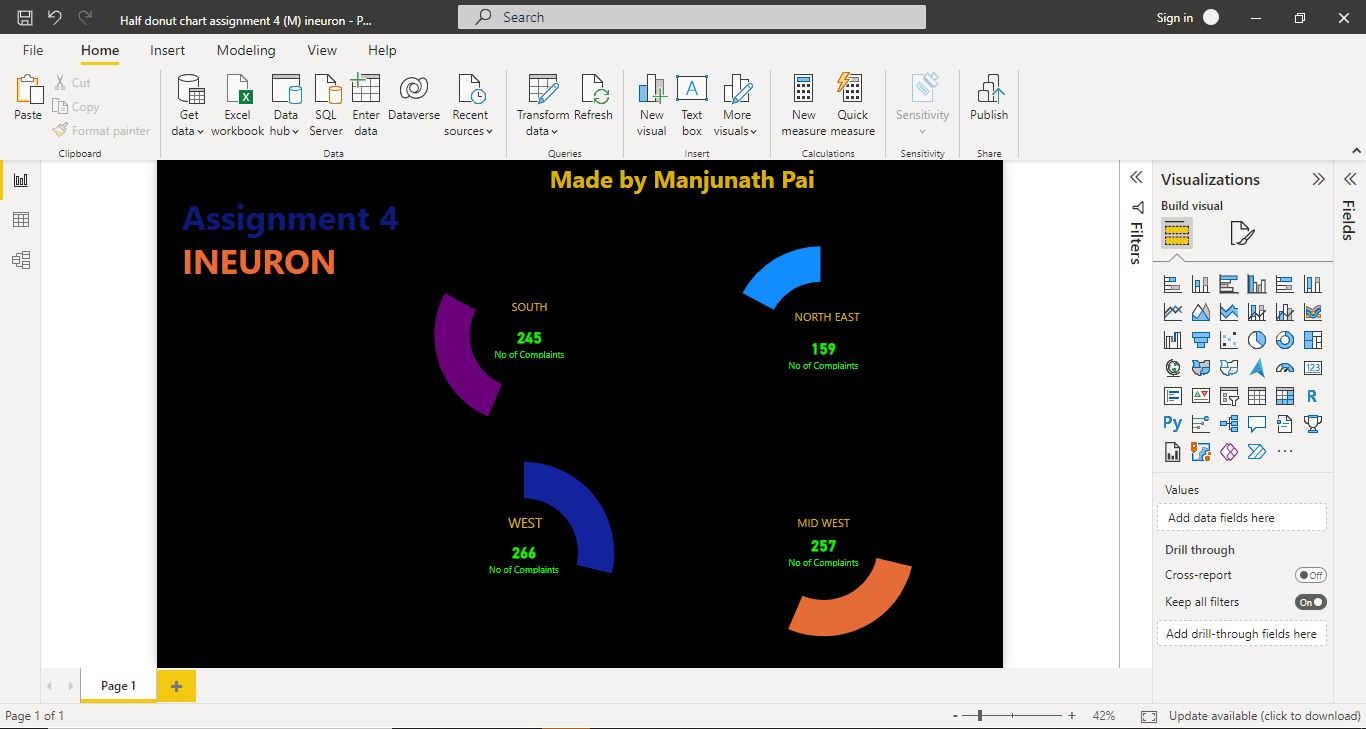

What the dashboard file says about the page in this screenshot:
{"tool":"powerbi","page":{"name":"Page 1","canvas":[2000,1200],"ordinal":0},"visuals":[{"type":"donutChart","fields":{"Y":["Complains Data.ID"],"Category":["StateRegions_Tbl.Region"]},"box":[1164.6,146.5,805.5,533.9],"z":0},{"type":"donutChart","fields":{"Y":["Complains Data.ID"],"Category":["StateRegions_Tbl.Region"]},"box":[559.8,654.3,611.8,545.7],"z":1000},{"type":"donutChart","fields":{"Y":["Complains Data.ID"],"Category":["StateRegions_Tbl.Region"]},"box":[1171.7,637.8,805.5,545.7],"z":2000},{"type":"donutChart","fields":{"Y":["Complains Data.ID"],"Category":["StateRegions_Tbl.Region"]},"box":[559.8,146.5,609.4,533.9],"z":3000},{"type":"shape","box":[1396.1,810.2,78,47.2],"z":4000},{"type":"textbox","box":[784.3,323.6,191.3,63.8],"z":5000},{"type":"card","fields":{"Values":["Complains Data.No of Complaints"]},"box":[784.3,387.4,191.3,87.4],"z":6000},{"type":"card","fields":{"Values":["Complains Data.No of Complaints"]},"box":[1466.9,878.7,215,87.4],"z":8000},{"type":"card","fields":{"Values":["Complains Data.No of Complaints"]},"box":[758.3,895.3,217.3,87.4],"z":9000},{"type":"textbox","box":[784.3,829.1,170.1,82.7],"z":10000},{"type":"textbox","box":[1457.5,833.9,233.9,61.4],"z":11000},{"type":"textbox","box":[1497.6,347.2,170.1,63.8],"z":12000},{"type":"shape","box":[1396.1,474.8,103.9,82.7],"z":13000},{"type":"shape","box":[758.3,1058.3,78,42.5],"z":14000},{"type":"shape","box":[640.2,777.2,118.1,101.6],"z":15000},{"type":"shape","box":[1379.5,807.9,78,47.2],"z":16000},{"type":"shape","box":[1523.6,680.3,103.9,113.4],"z":17000},{"type":"textbox","box":[798.4,0,883.5,146.5],"z":18000},{"type":"shape","box":[975.6,413.4,103.9,82.7],"z":19000},{"type":"shape","box":[718.1,1032.3,148.8,118.1],"z":20000},{"type":"shape","box":[1459.8,517.3,78,103.9],"z":21000},{"type":"card","fields":{"Values":["Complains Data.No of Complaints"]},"box":[1478.7,413.4,191.3,87.4],"z":21001},{"type":"shape","box":[1681.9,413.4,108.7,89.8],"z":21002},{"type":"textbox","box":[54.3,73.2,536.2,463],"z":21003}]}

Visuals, with their boxes on the page's 2000x1200 design canvas (x1, y1, x2, y2). These are canvas units, not pixel positions in the 1366x729 screenshot, which may show the page scaled, cropped or inside an application window:
donutChart - Complains Data.ID x StateRegions_Tbl.Region: [left=1165, top=146, right=1970, bottom=680]
donutChart - Complains Data.ID x StateRegions_Tbl.Region: [left=560, top=654, right=1172, bottom=1200]
donutChart - Complains Data.ID x StateRegions_Tbl.Region: [left=1172, top=638, right=1977, bottom=1184]
donutChart - Complains Data.ID x StateRegions_Tbl.Region: [left=560, top=146, right=1169, bottom=680]
shape: [left=1396, top=810, right=1474, bottom=857]
textbox: [left=784, top=324, right=976, bottom=387]
card - Complains Data.No of Complaints: [left=784, top=387, right=976, bottom=475]
card - Complains Data.No of Complaints: [left=1467, top=879, right=1682, bottom=966]
card - Complains Data.No of Complaints: [left=758, top=895, right=976, bottom=983]
textbox: [left=784, top=829, right=954, bottom=912]
textbox: [left=1458, top=834, right=1691, bottom=895]
textbox: [left=1498, top=347, right=1668, bottom=411]
shape: [left=1396, top=475, right=1500, bottom=558]
shape: [left=758, top=1058, right=836, bottom=1101]
shape: [left=640, top=777, right=758, bottom=879]
shape: [left=1380, top=808, right=1458, bottom=855]
shape: [left=1524, top=680, right=1628, bottom=794]
textbox: [left=798, top=0, right=1682, bottom=146]
shape: [left=976, top=413, right=1080, bottom=496]
shape: [left=718, top=1032, right=867, bottom=1150]
shape: [left=1460, top=517, right=1538, bottom=621]
card - Complains Data.No of Complaints: [left=1479, top=413, right=1670, bottom=501]
shape: [left=1682, top=413, right=1791, bottom=503]
textbox: [left=54, top=73, right=590, bottom=536]
